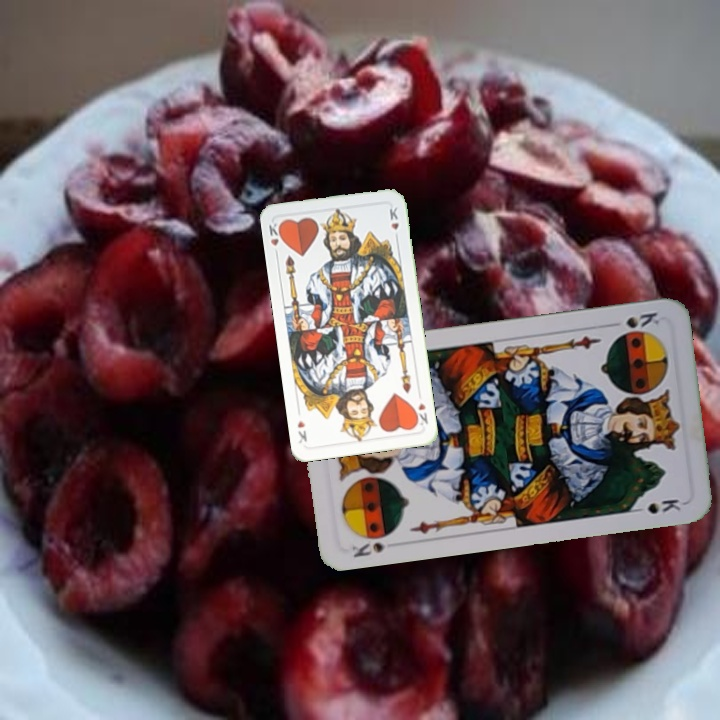HK: (264, 218, 286, 259), (410, 399, 430, 428)
SK: (622, 308, 662, 331), (347, 538, 387, 561)
